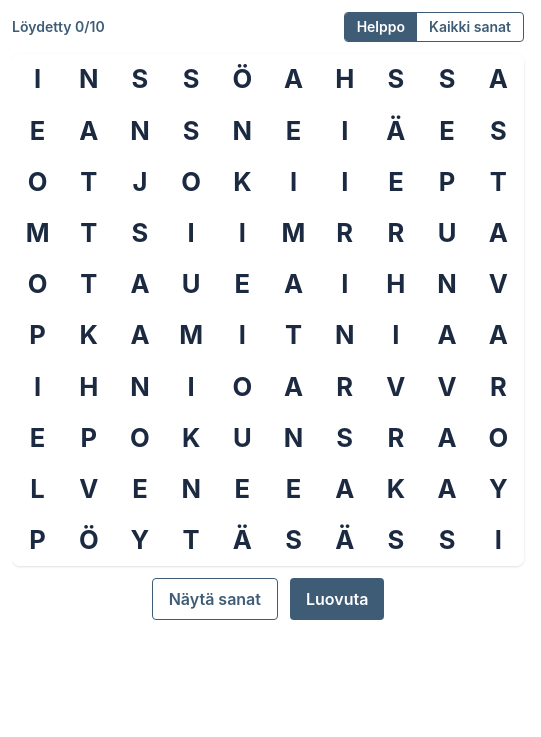
Test: SanapiiloGame › disables the show-words button in All words mode, and closes an open list
Click the button "Näytä sanat" at (215, 599), box [152,578,278,620]
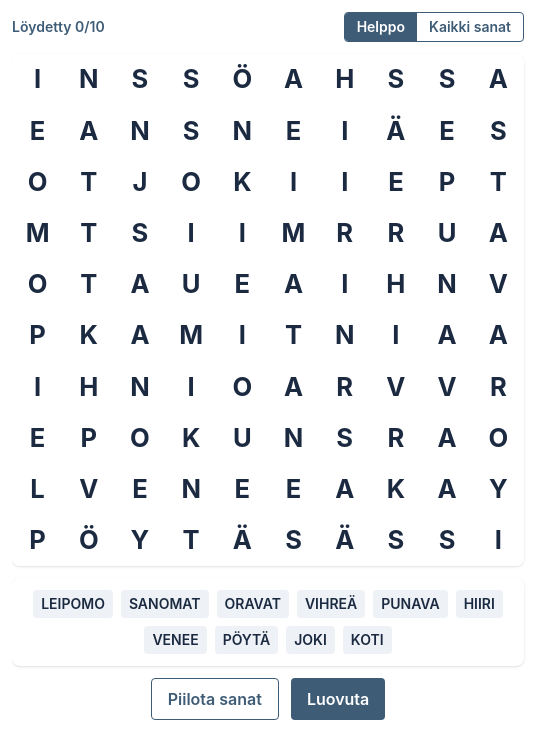
Click the button "Kaikki sanat" at (470, 27), box [417,13,523,41]
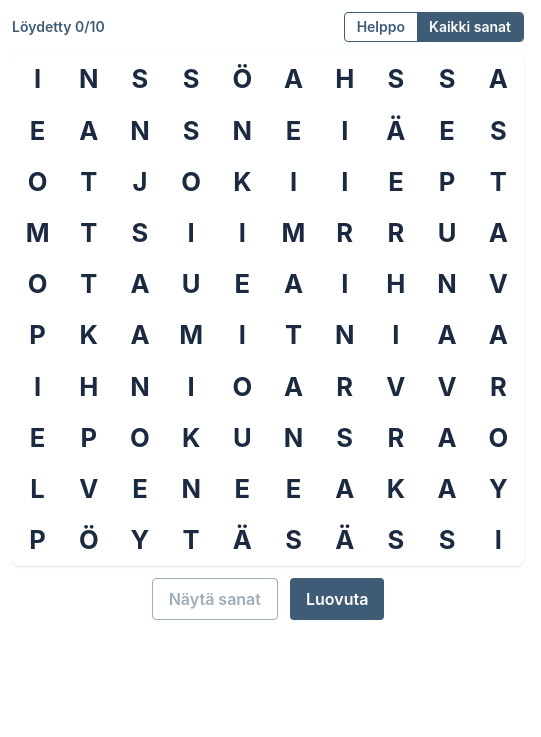
Check: the button "Näytä sanat" is disabled, box [152,578,278,620]
Check: the list is gone
